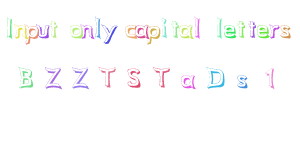1: (265, 67, 276, 89)
B: (17, 66, 36, 89)
D: (205, 65, 226, 89)
I: (2, 16, 19, 39)
S: (126, 67, 142, 88)
T: (98, 66, 117, 88), (152, 66, 171, 88)
Z: (44, 66, 62, 89), (71, 66, 89, 89)
a: (180, 73, 196, 89), (134, 24, 150, 39), (178, 24, 193, 38)
c: (124, 23, 137, 39)
e: (256, 23, 269, 39), (223, 24, 237, 38)
i: (159, 16, 169, 37)
l: (94, 14, 102, 38), (215, 16, 223, 39), (193, 16, 201, 38)
n: (80, 22, 94, 39), (14, 23, 28, 39)
o: (69, 24, 83, 39)
p: (23, 23, 39, 45), (147, 23, 160, 45)
r: (270, 23, 280, 39)
s: (280, 23, 292, 38), (236, 74, 248, 89)
t: (236, 17, 246, 38), (248, 17, 257, 39), (170, 19, 179, 38), (49, 20, 58, 38)
u: (36, 23, 50, 39)
y: (101, 23, 117, 44)
